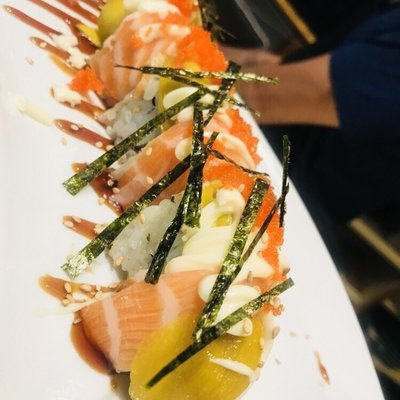soup: (33, 44, 294, 397)
